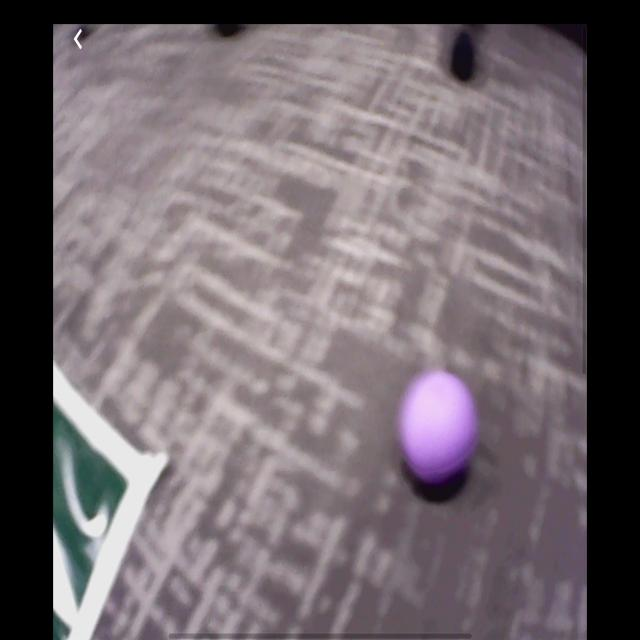ball: (396, 368, 480, 488)
